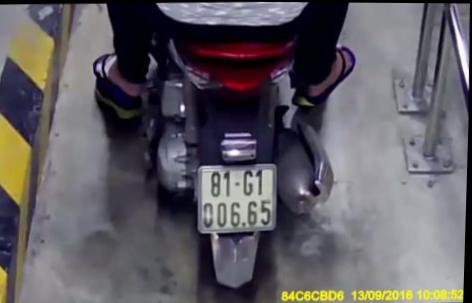LP: (195, 162, 284, 237)
